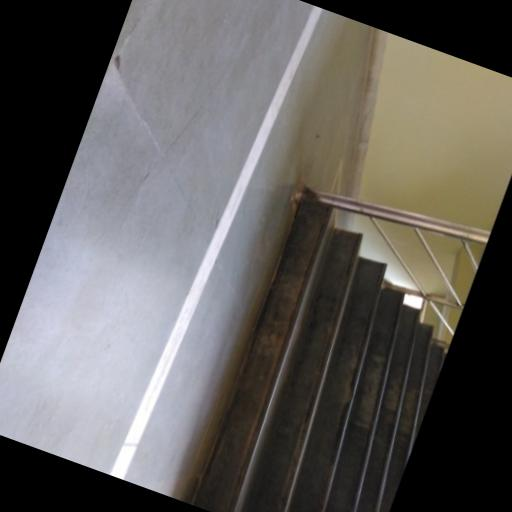stairs: (193, 200, 445, 511)
